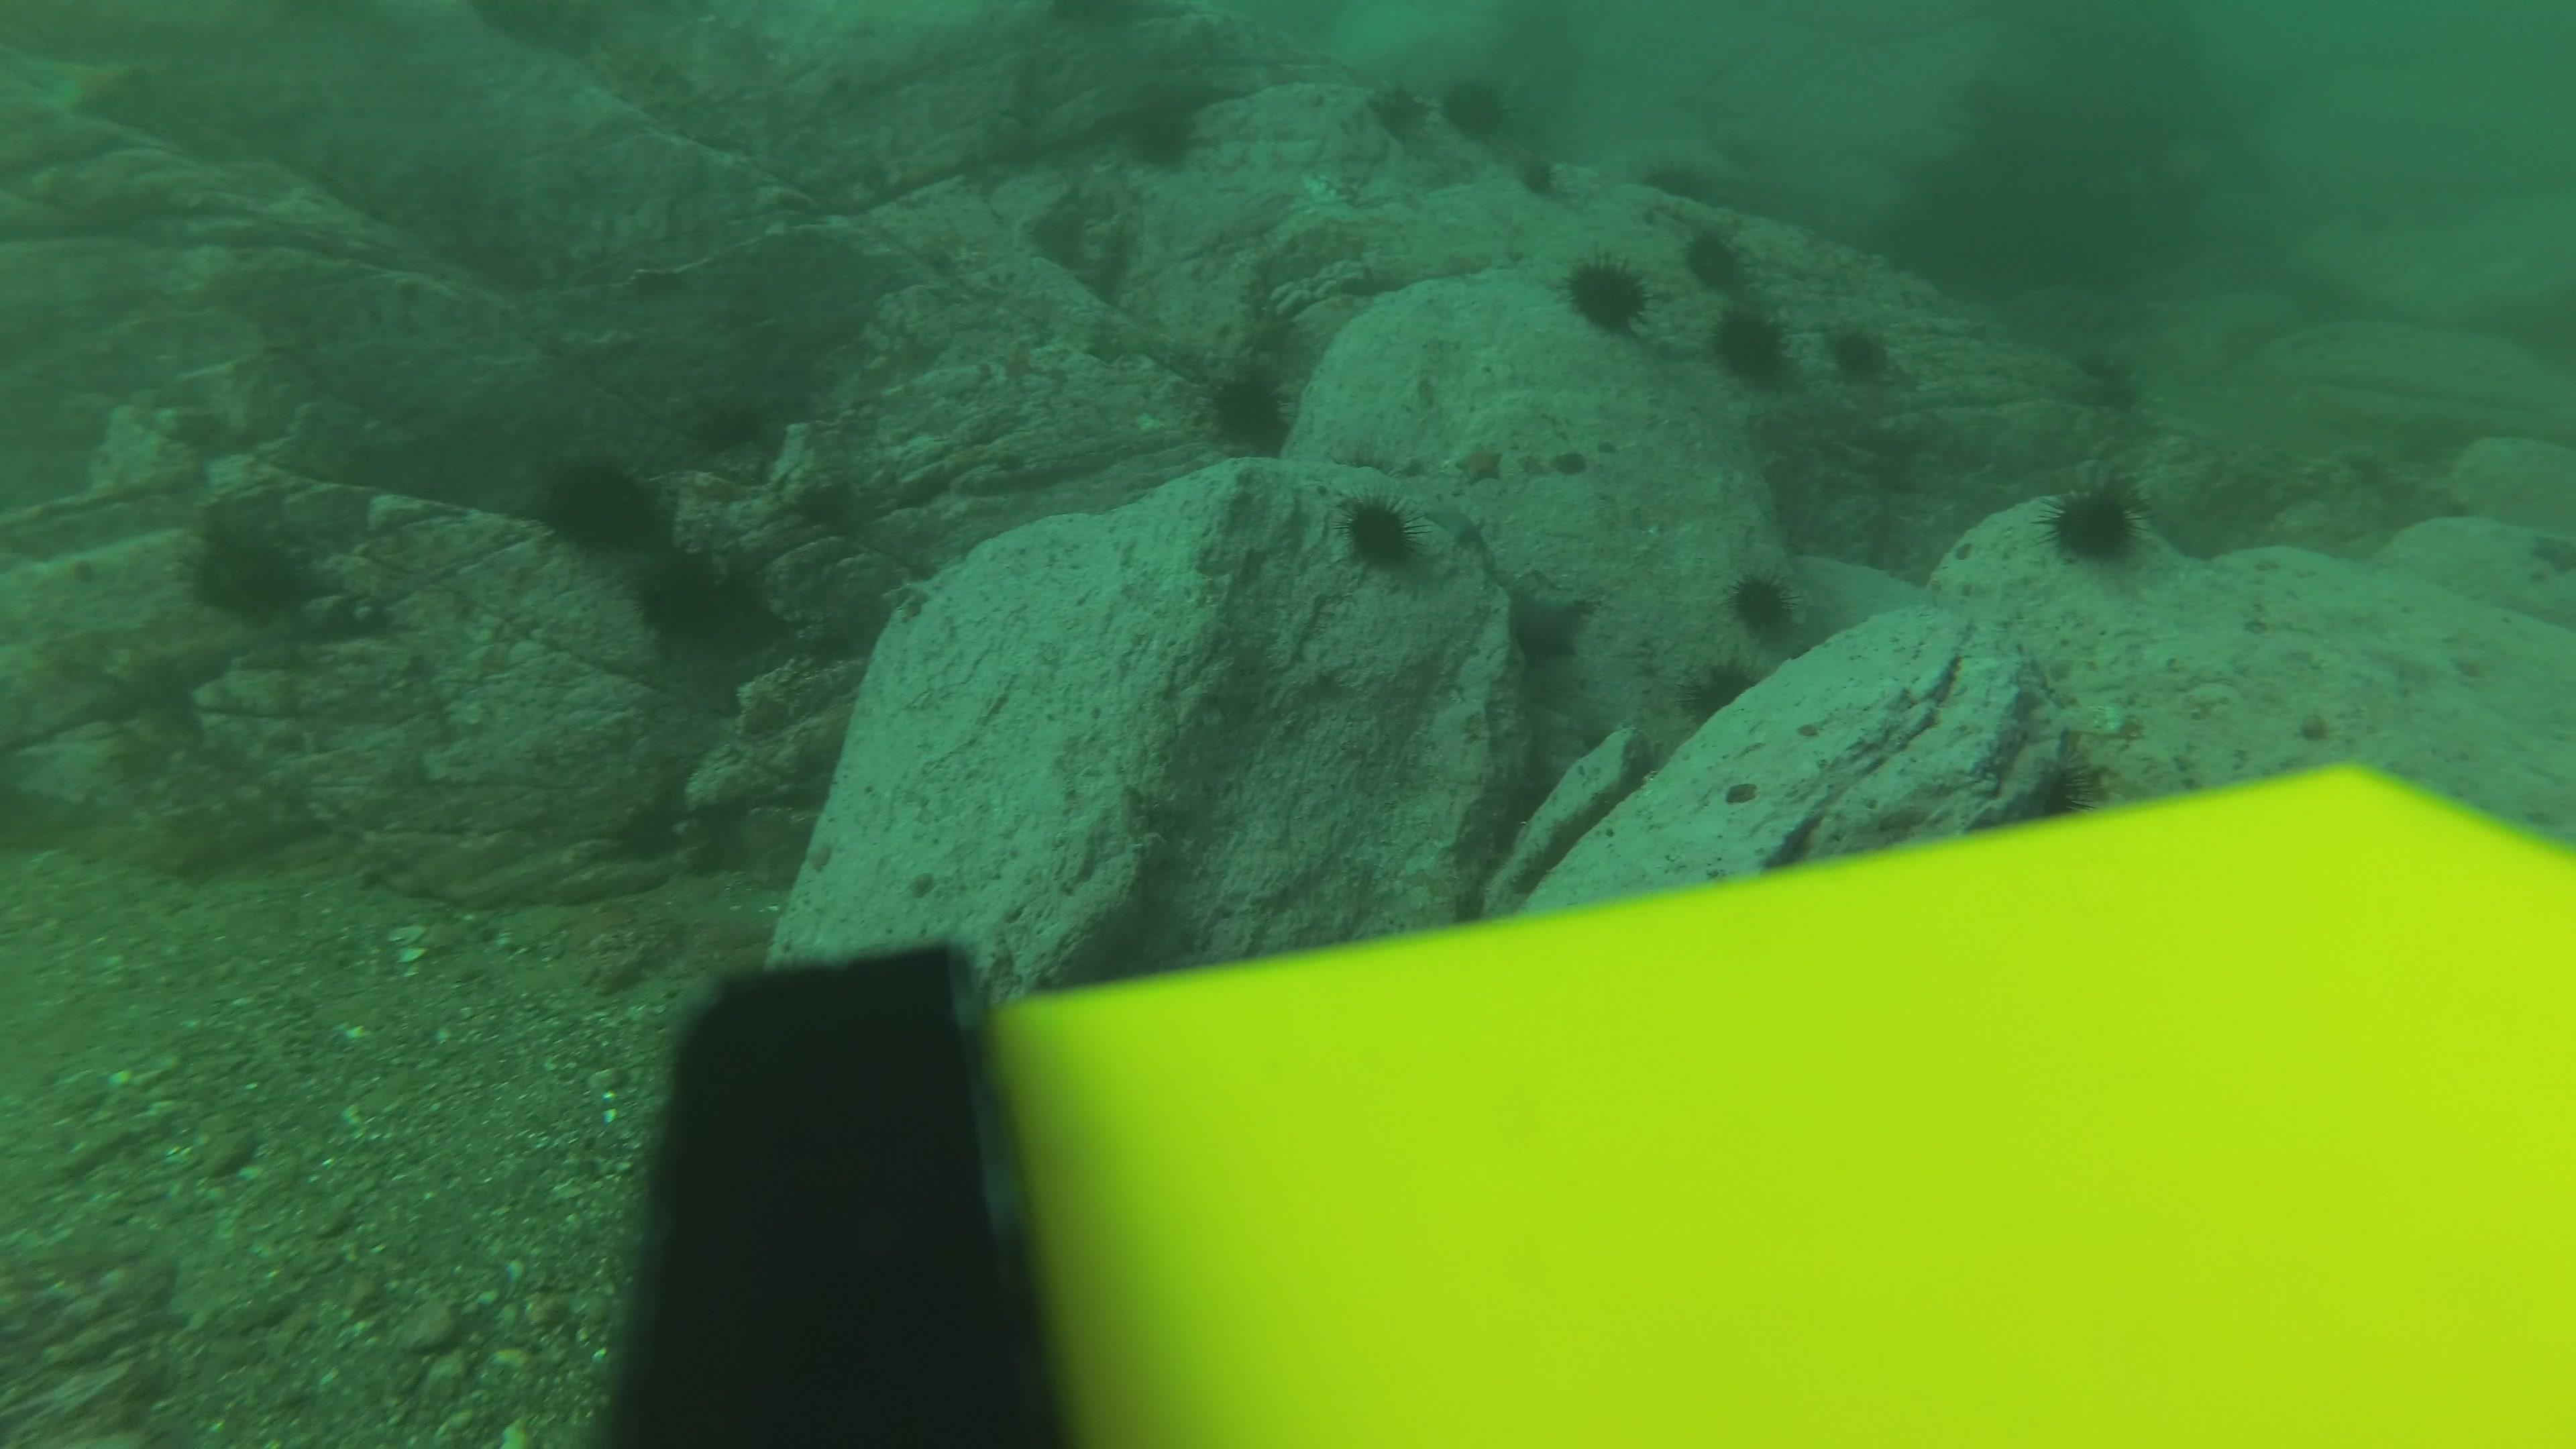echinus: (180, 513, 318, 628), (529, 448, 669, 559), (630, 545, 745, 646), (2038, 474, 2151, 573), (1194, 361, 1300, 460), (1334, 490, 1431, 580), (1559, 249, 1654, 338), (1116, 92, 1208, 175), (1707, 303, 1794, 387), (1721, 564, 1806, 644), (1675, 653, 1760, 727), (1437, 69, 1516, 147), (1822, 317, 1900, 389), (2070, 345, 2148, 414), (1679, 223, 1753, 294), (1362, 76, 1431, 145), (1513, 150, 1566, 200)
starfish: (1502, 579, 1594, 669), (1453, 437, 1507, 488), (2534, 529, 2576, 571)
